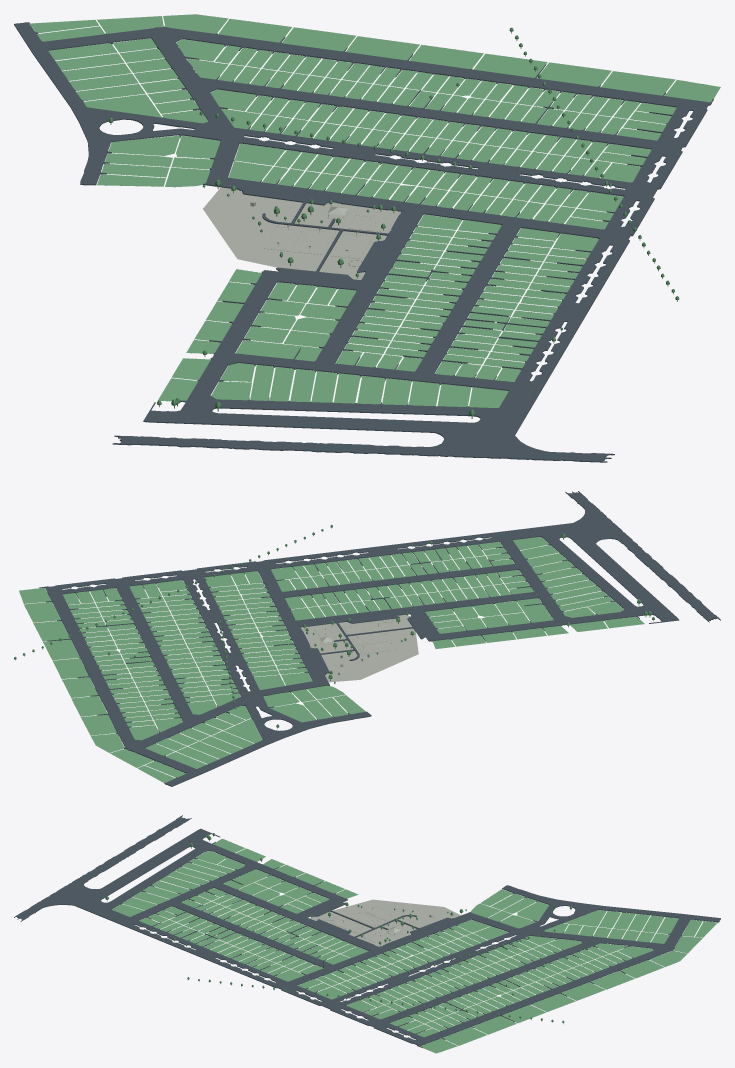
File: alianca_park_masterplan_preview.glb
The picture shows the model from 3 angles, top to bottom: view 1: azimuth 30°, elevation 25°; view 2: azimuth 150°, elevation 25°; view 3: azimuth 270°, elevation 25°; orthographic projection. The views are drawn at different scales.
Parts seen in each view (by area): view 1: Asfalto_tracado_do_PDF, Area_de_lazer_base, Lote_103, Lote_236, Lote_081, Lote_044, Lote_018, Lote_030, Lote_059, Lote_010, Lote_050, Lote_023 (+13 smaller); view 2: Asfalto_tracado_do_PDF, Area_de_lazer_base, Lote_103, Lote_059, Lote_236, Lote_044, Lote_081, Lote_030, Lote_018, Lote_010, Lote_023, Lote_050; view 3: Asfalto_tracado_do_PDF, Area_de_lazer_base, Lote_103, Lote_081, Lote_236, Lote_044, Lote_018, Lote_030, Lote_010, Lote_059, Lote_023.
Boxes of the visible parts, bbox=[...] form: Asfalto_tracado_do_PDF: bbox=[14, 22, 713, 462]; Area_de_lazer_base: bbox=[203, 187, 407, 279]; Lote_103: bbox=[601, 71, 675, 95]; Lote_236: bbox=[236, 340, 322, 361]; Lote_081: bbox=[537, 62, 611, 86]; Lote_044: bbox=[409, 45, 483, 68]; Lote_018: bbox=[282, 27, 355, 51]; Lote_030: bbox=[346, 36, 419, 60]; Lote_059: bbox=[473, 53, 547, 77]; Lote_010: bbox=[218, 19, 291, 42]; Lote_050: bbox=[108, 135, 180, 155]; Lote_023: bbox=[83, 94, 161, 117]; Asfalto_tracado_do_PDF: bbox=[39, 491, 720, 786]; Area_de_lazer_base: bbox=[300, 614, 418, 682]; Lote_103: bbox=[24, 602, 60, 622]; Lote_059: bbox=[43, 639, 79, 660]; Lote_236: bbox=[517, 598, 553, 622]; Lote_044: bbox=[53, 658, 88, 678]; Lote_081: bbox=[33, 620, 69, 641]; Lote_030: bbox=[62, 677, 97, 697]; Lote_018: bbox=[71, 696, 107, 716]; Lote_010: bbox=[81, 715, 116, 735]; Lote_023: bbox=[224, 718, 262, 743]; Lote_050: bbox=[270, 703, 316, 722]; Asfalto_tracado_do_PDF: bbox=[14, 815, 720, 1047]; Area_de_lazer_base: bbox=[308, 899, 460, 949]; Lote_103: bbox=[443, 1027, 486, 1045]; Lote_081: bbox=[472, 1016, 516, 1034]; Lote_236: bbox=[223, 869, 269, 889]; Lote_044: bbox=[531, 993, 575, 1011]; Lote_018: bbox=[591, 971, 634, 989]; Lote_030: bbox=[561, 982, 604, 1000]; Lote_010: bbox=[620, 960, 663, 978]; Lote_059: bbox=[502, 1005, 545, 1023]; Lote_023: bbox=[564, 910, 606, 926].
Size of the model in its own units: 581 by 7.61 by 730.
